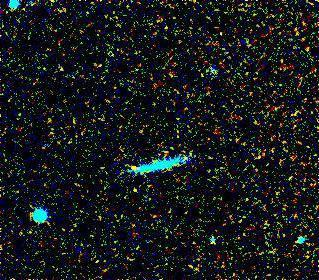star: (121, 152, 151, 182)
